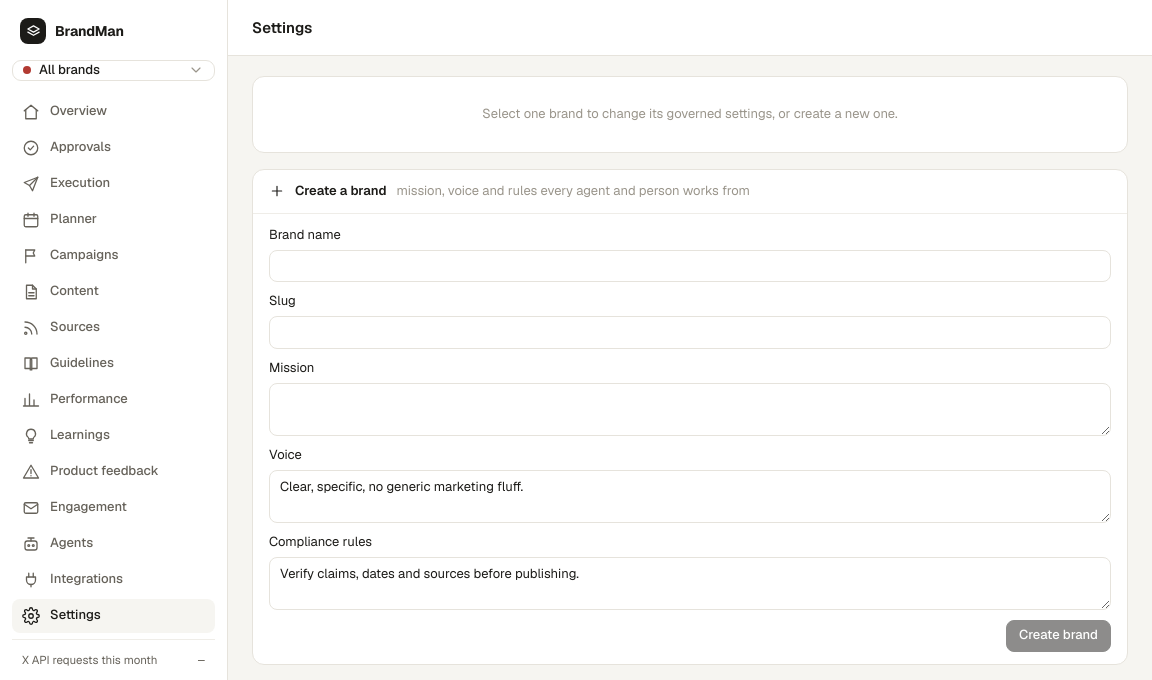
Test case: brand creation handoff › does not show another brand the new-brand handoff
In the field labelled "Brand name": (690, 266) [269, 250, 1111, 282], type "Acme Widgets"
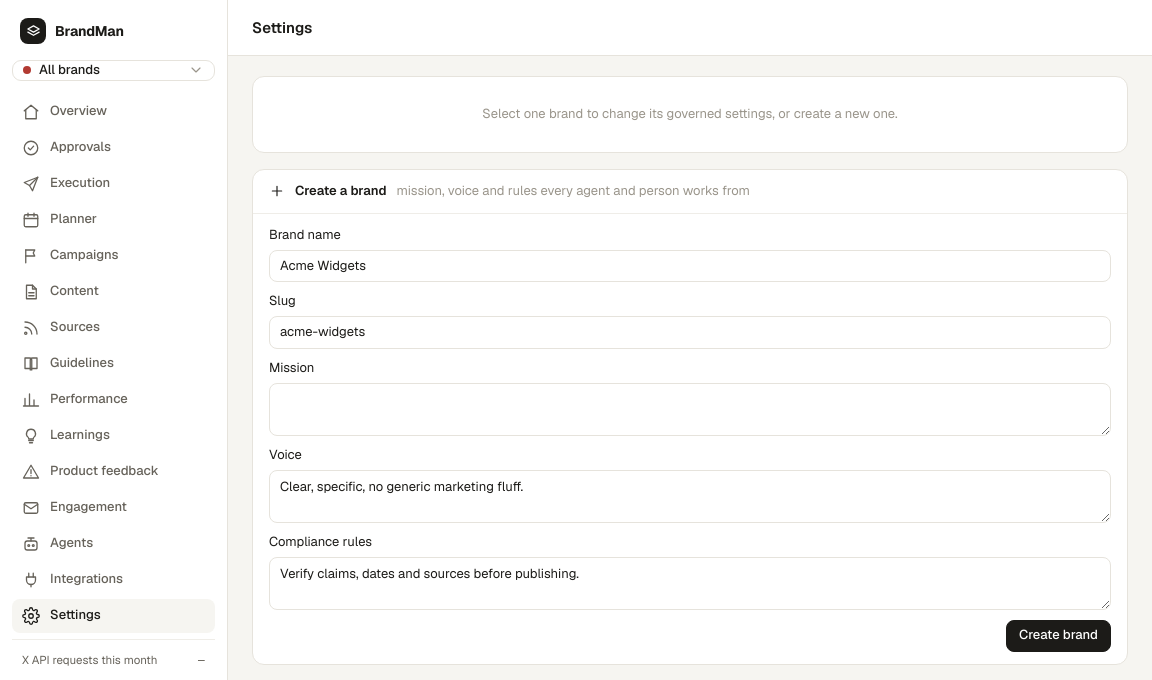
In the text box labelled "Mission": (690, 409) [269, 383, 1111, 436], type "Help people pick widgets."
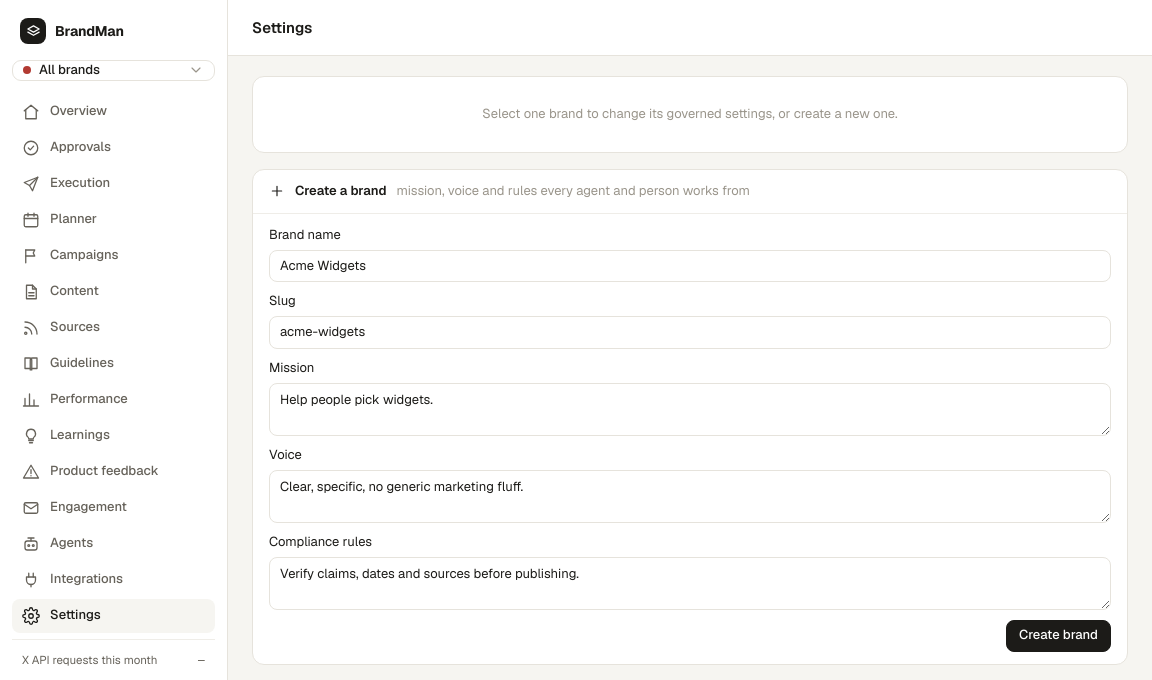
Click the button "Create brand": (1059, 636) [1006, 620, 1111, 652]
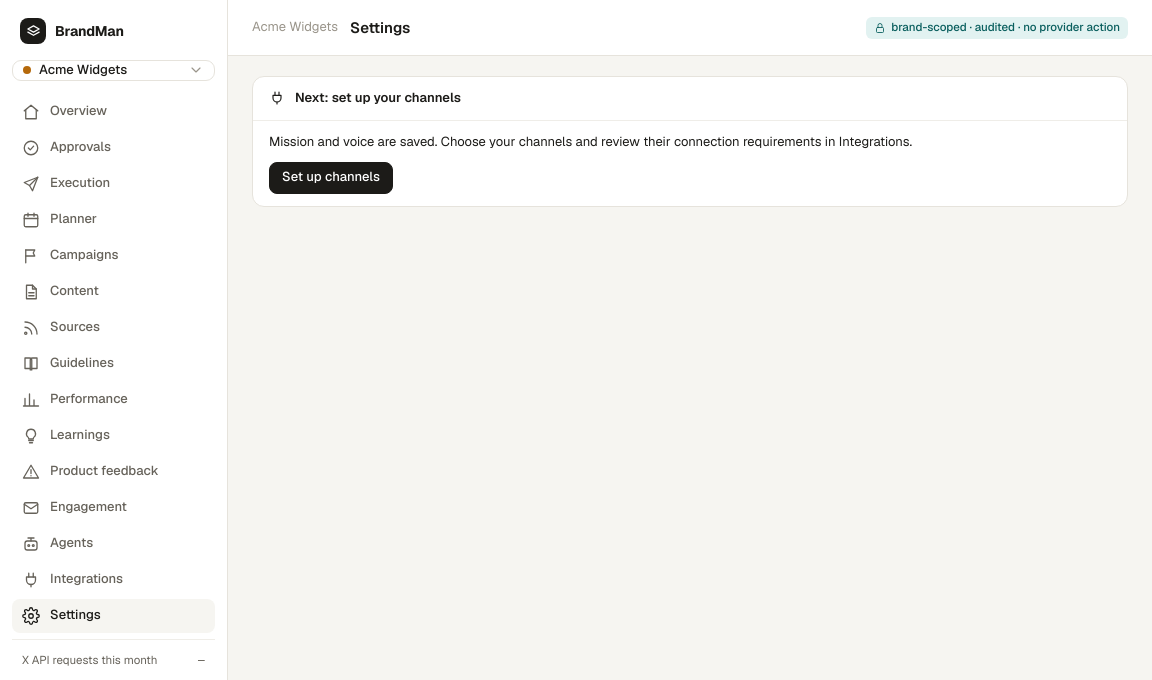
Select "Demo Brand" in the dropdown named "Brand": (114, 70) [12, 60, 215, 81]
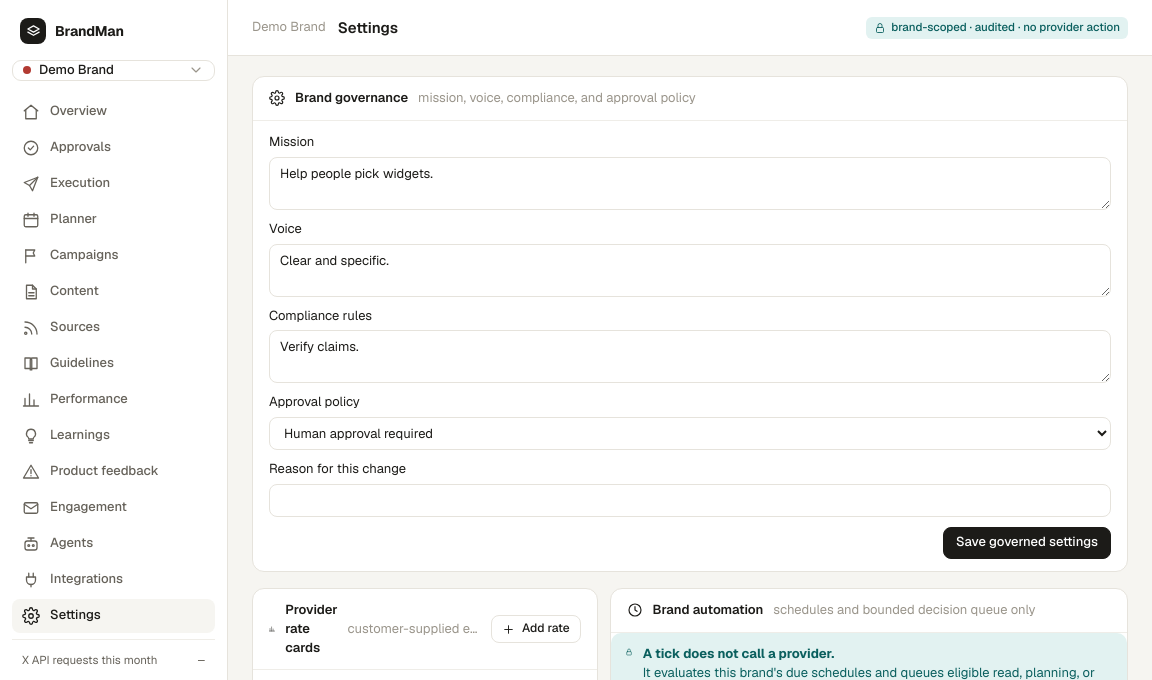
expect the link "Set up channels" is gone: met
expect the text box showing "Help people pick widgets." is shown: met, box [269, 157, 1111, 210]
